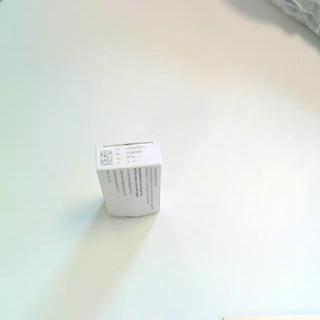oxycontin5mg: (94, 139, 164, 221)
